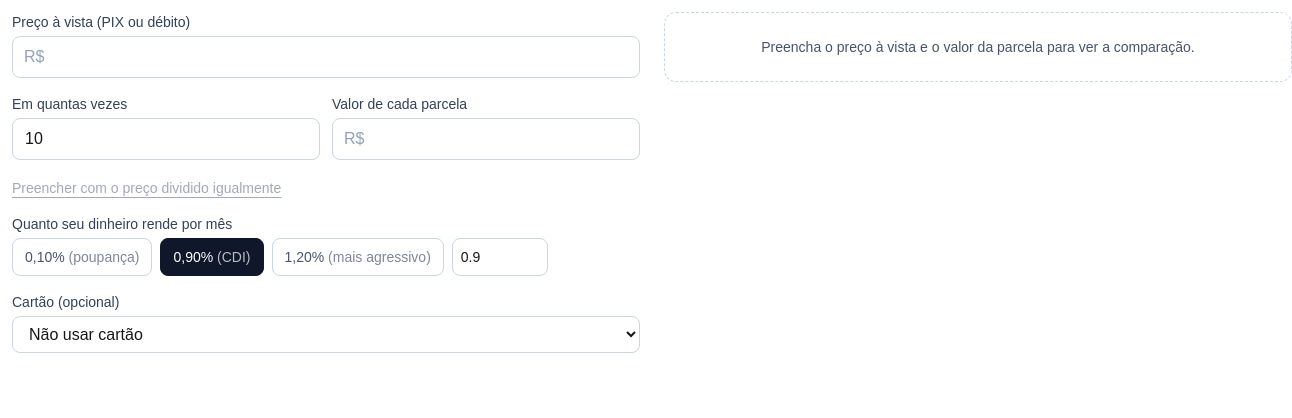
Test: SimulatorForm — o veredito › parcelado sem juros com dinheiro rendendo favorece parcelar
Type "100000" into the field labelled "Preço à vista (PIX ou débito)" at (326, 57), box [12,36,640,78]
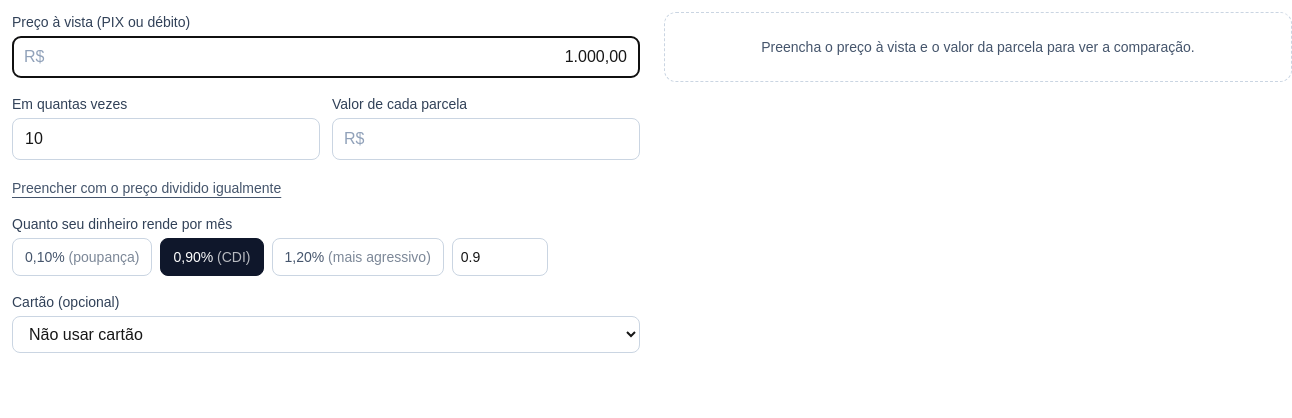
Type "10000" into the field labelled "Valor de cada parcela" at (486, 139), box [332,118,640,160]
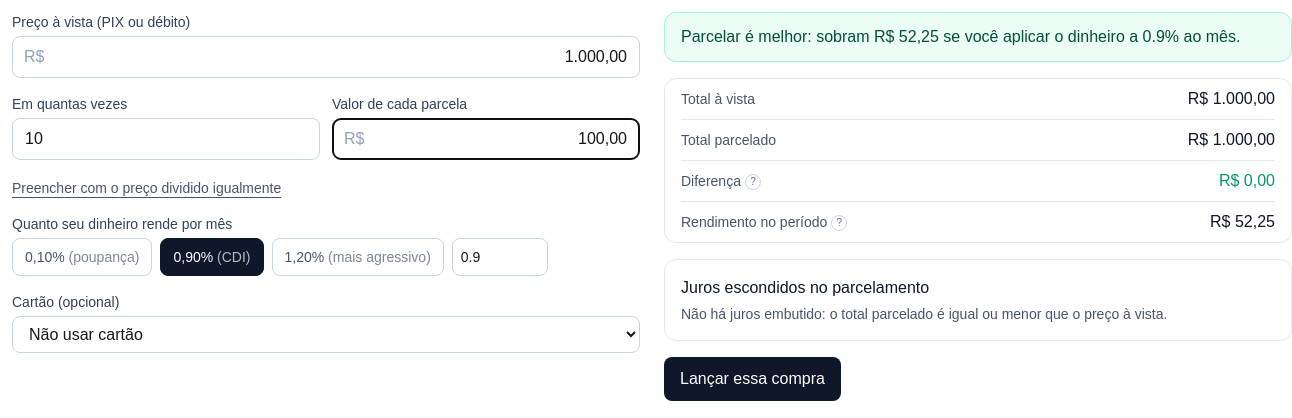
Expected: the text "Parcelar é melhor: sobram R$ 52,25 se você aplicar o dinheiro a 0.9% ao mês." is shown, [664,12,1291,62]
